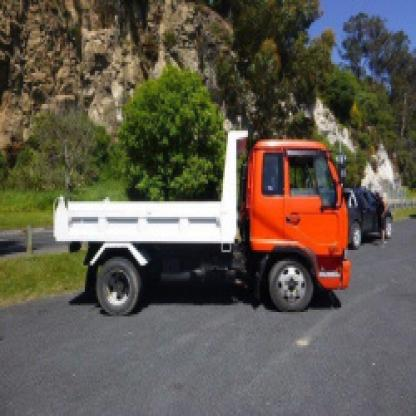dump_truck: (58, 106, 386, 345)
